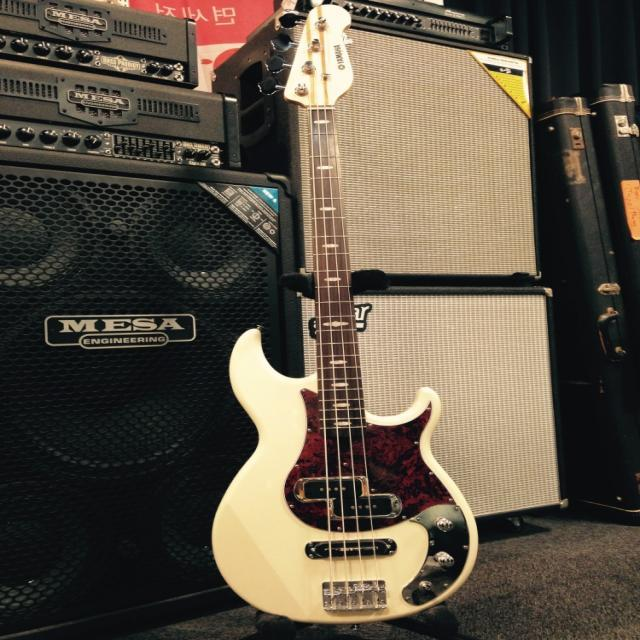bass: (213, 5, 476, 623)
